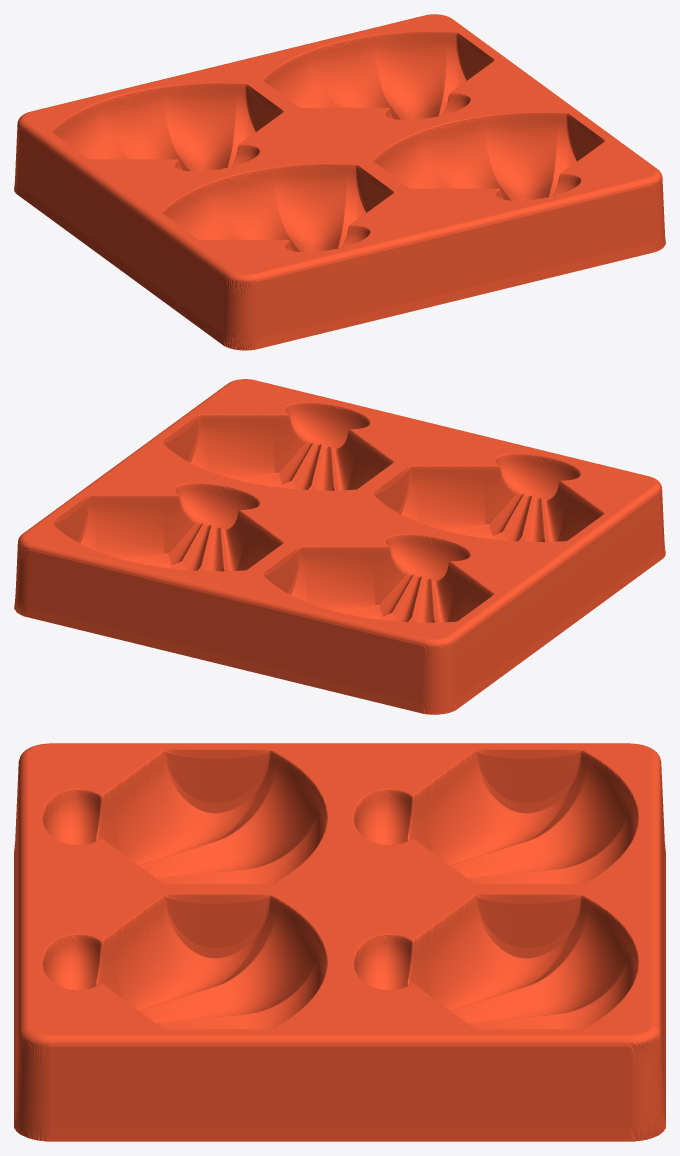
Rendered from mold.glb.
3 views of the same model, one above another, from view 1: azimuth 30°, elevation 25°; view 2: azimuth 150°, elevation 25°; view 3: azimuth 270°, elevation 25° (orthographic). The views are drawn at different scales.
Visible parts, largest first — view 1: geometry_0; view 2: geometry_0; view 3: geometry_0.
Boxes of the visible parts, <box> form: geometry_0: <box>14,14,665,350</box>; geometry_0: <box>14,379,665,714</box>; geometry_0: <box>14,743,665,1141</box>.
Bounding box in the file's own units: 0.176 × 0.0274 × 0.1603.
